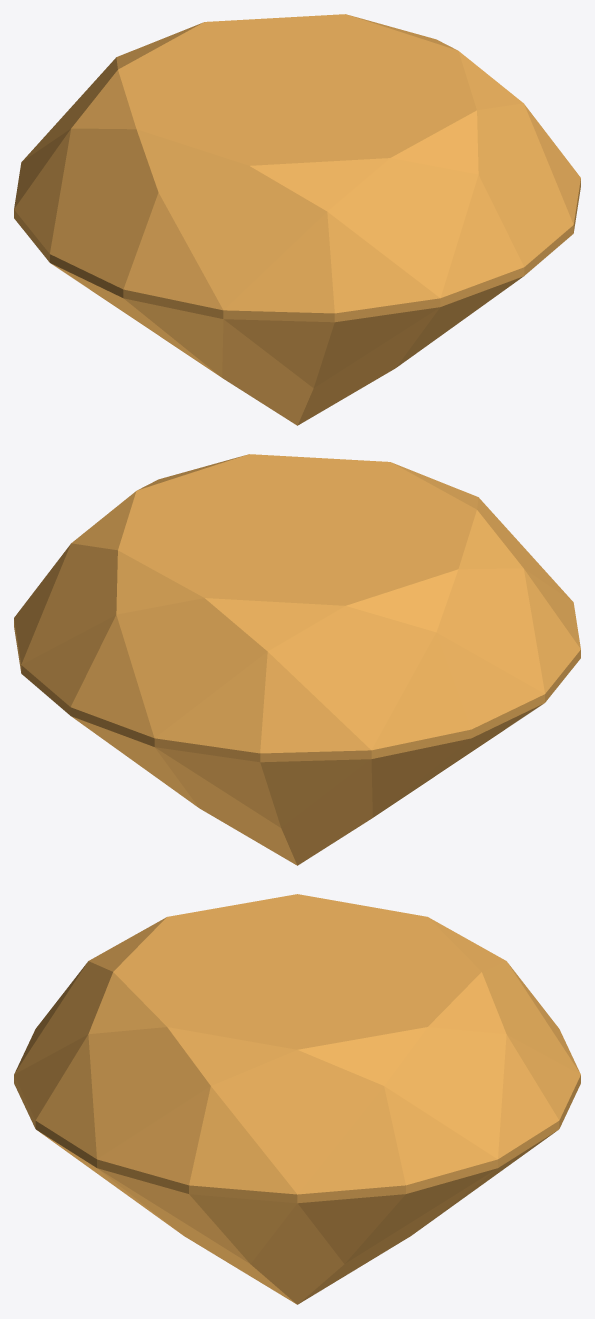
The model's file is DiamondBrilliant_01.fbx.
3 renders of one model, top to bottom at view 1: azimuth 30°, elevation 25°; view 2: azimuth 150°, elevation 25°; view 3: azimuth 270°, elevation 25°, orthographic.
Visible parts, largest first — view 1: DiamondBrilliant_01; view 2: DiamondBrilliant_01; view 3: DiamondBrilliant_01.
Boxes of the visible parts, left/top/right/bottom form: DiamondBrilliant_01: left=14, top=14, right=580, bottom=425; DiamondBrilliant_01: left=14, top=454, right=580, bottom=865; DiamondBrilliant_01: left=14, top=894, right=580, bottom=1304.
Size of the model in its own units: 374 by 242 by 374.
